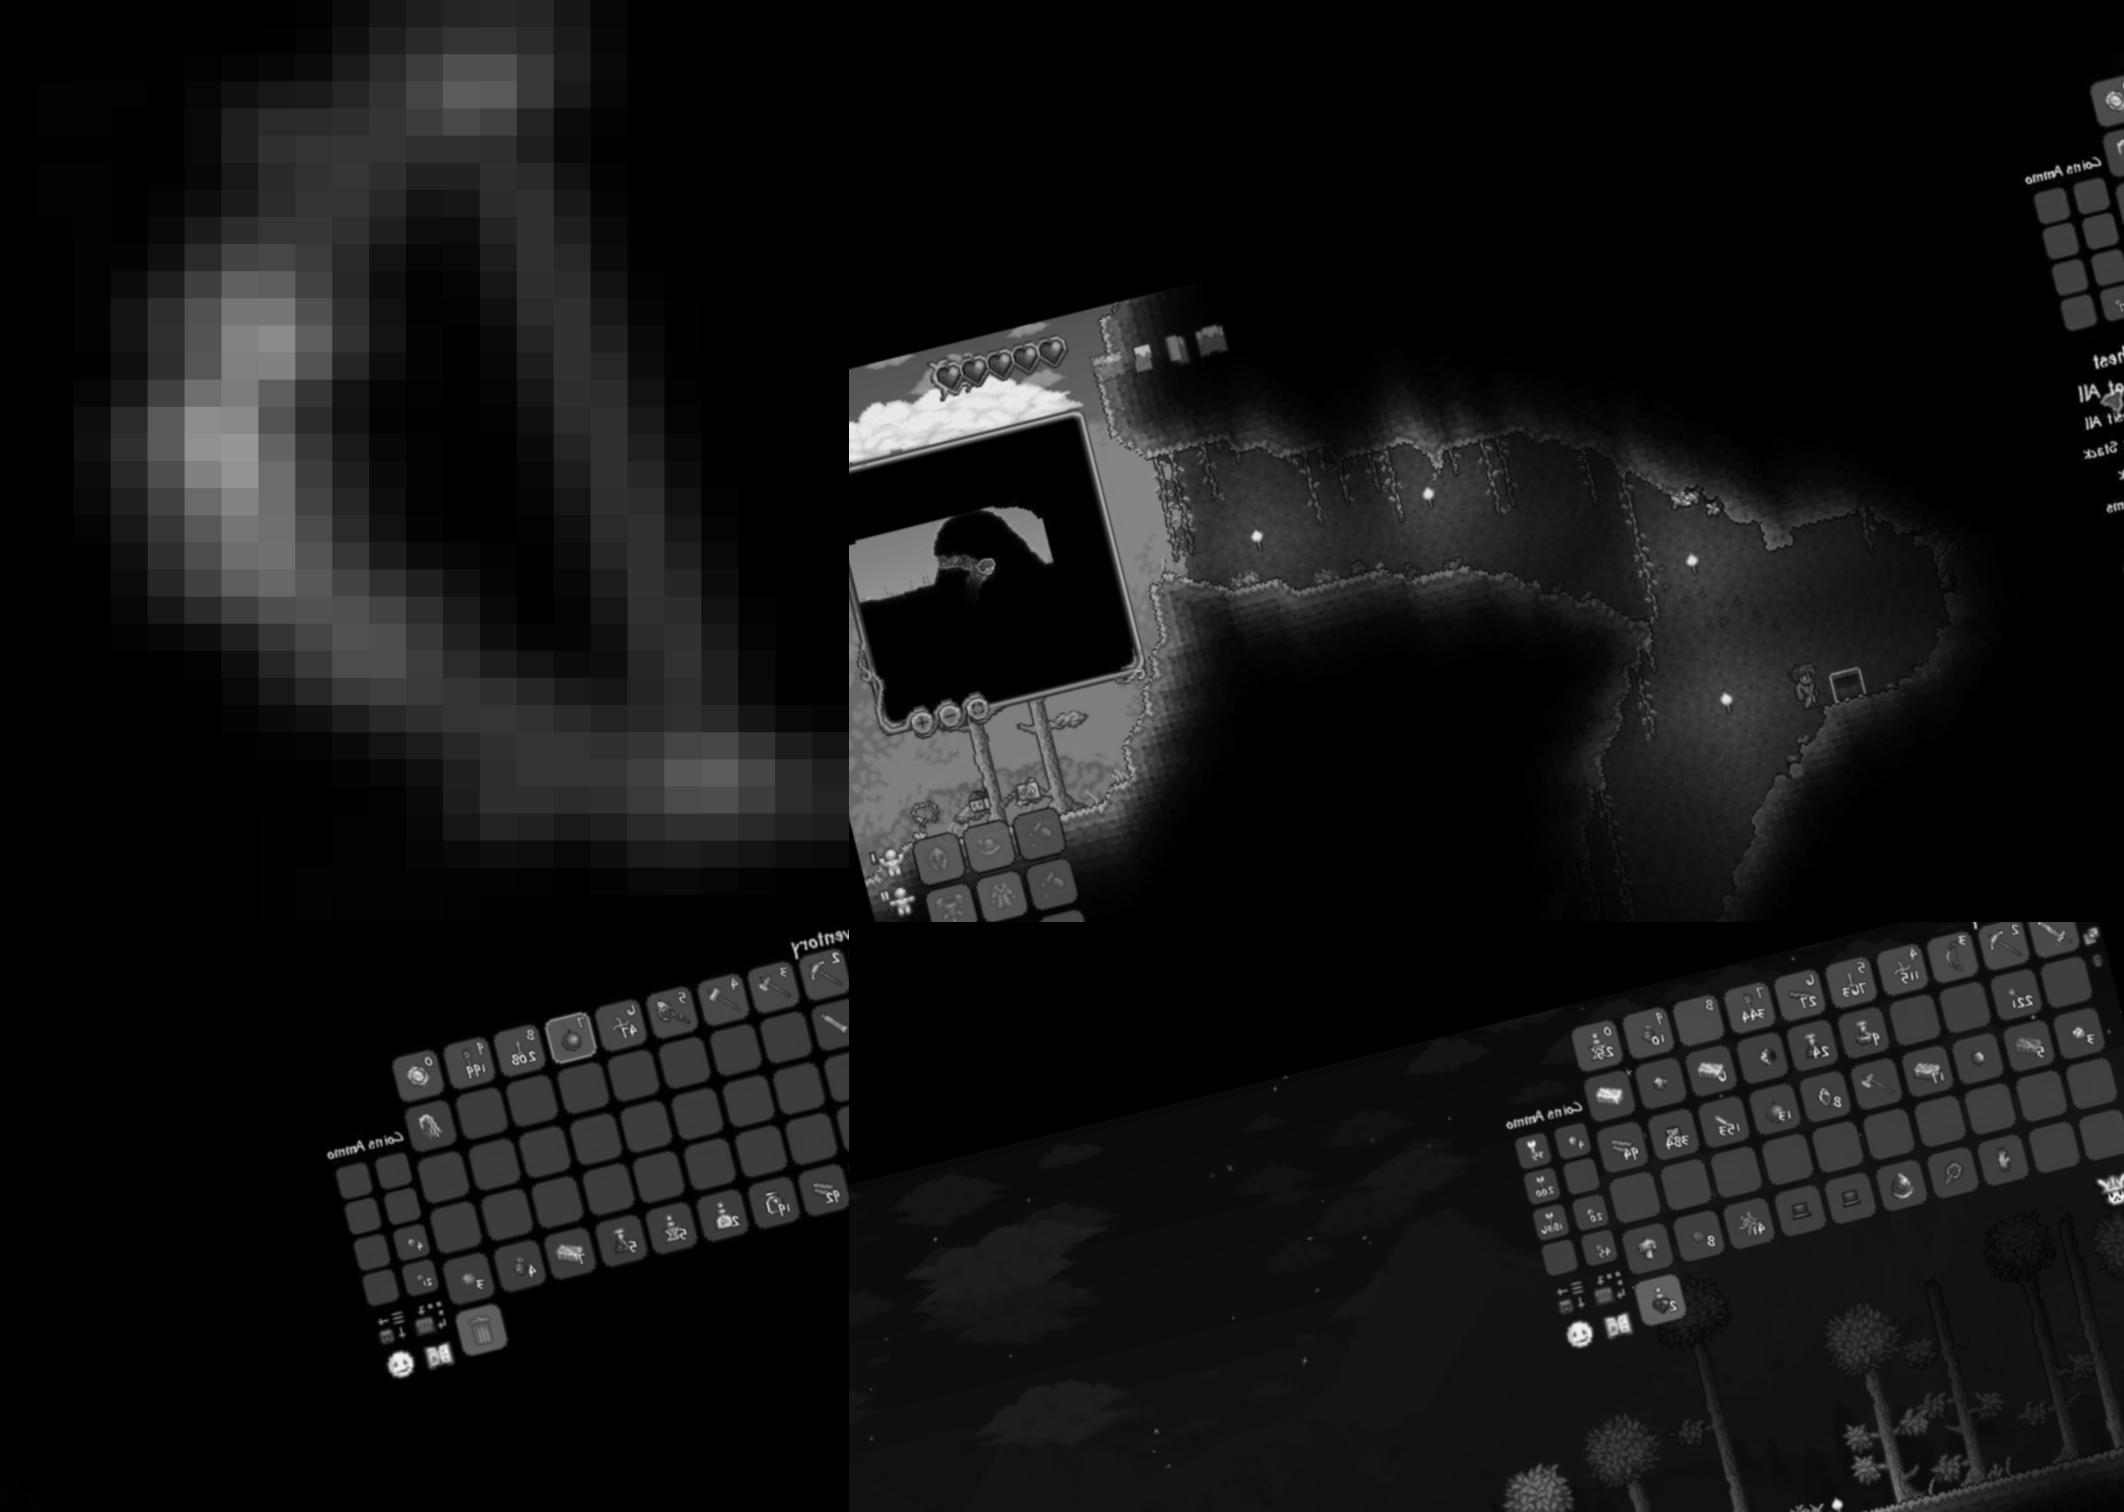bow: (0, 0, 849, 921)
heart: (1033, 329, 1073, 370)
